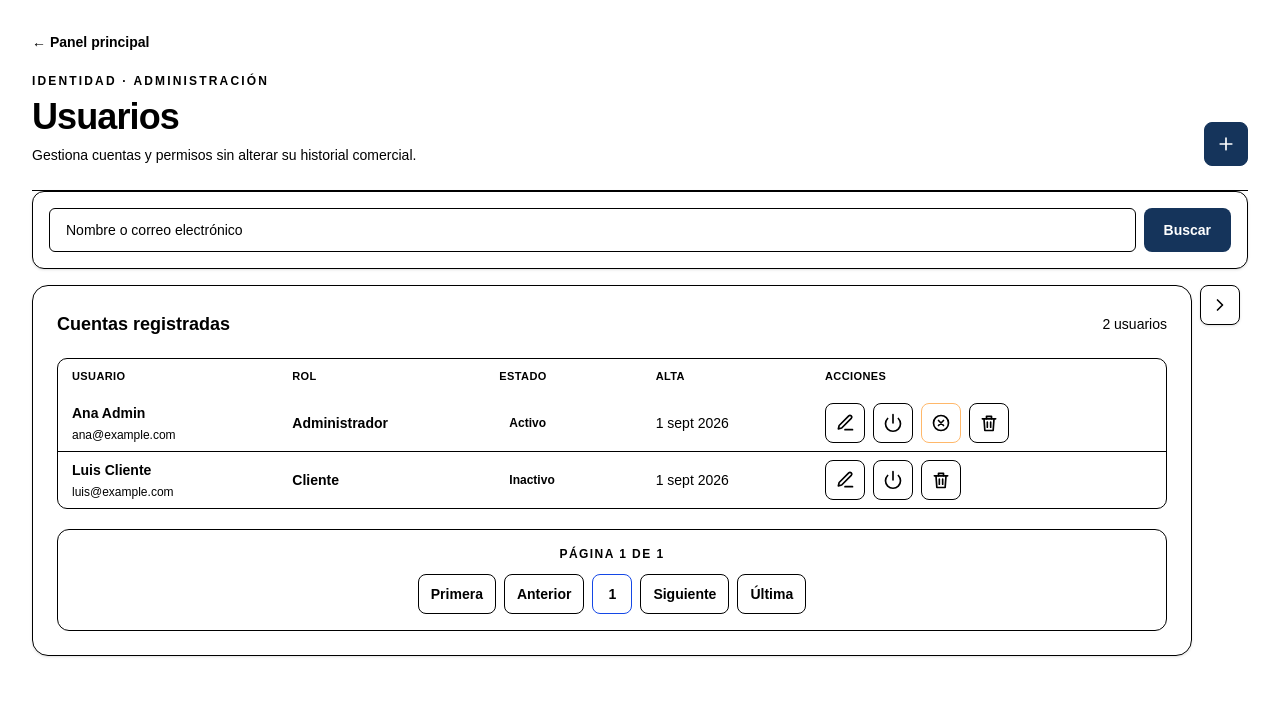
user administration › reports deletion failures safely after dismissing the dialog
The width and height of the screenshot is (1280, 720).
Click the button named "Eliminar Ana Admin" at [989, 423], box x1=969 y1=403 x2=1009 y2=443
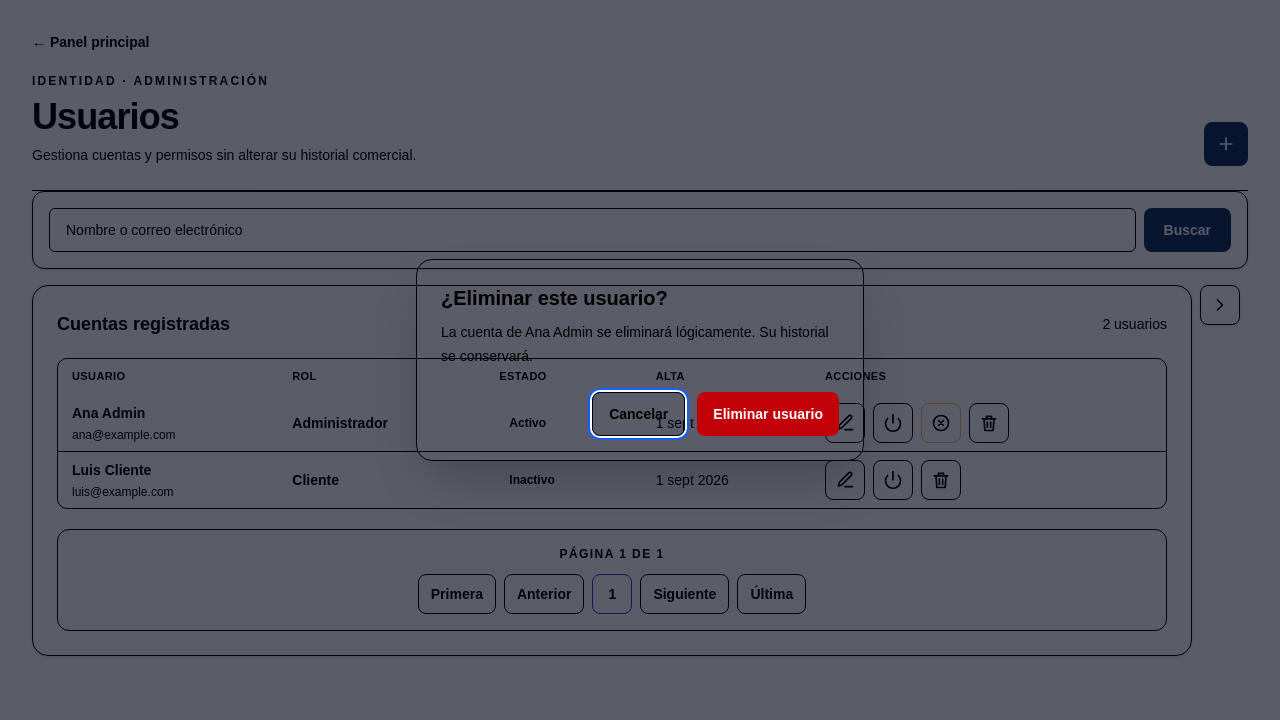
Click the button "Eliminar usuario" at [768, 414], box x1=697 y1=392 x2=839 y2=436
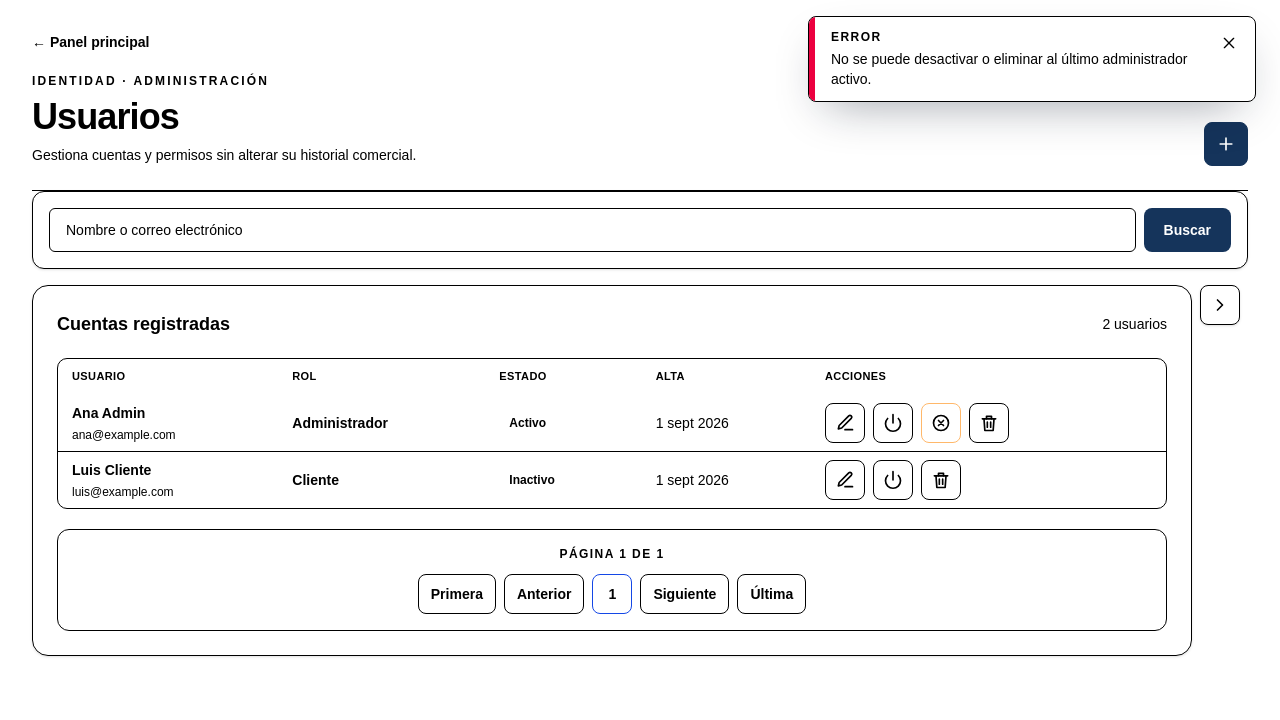
Expected: the text "No se puede desactivar o eliminar al último administrador activo." is shown, x1=831 y1=49 x2=1195 y2=89
Expected: the dialog is gone
